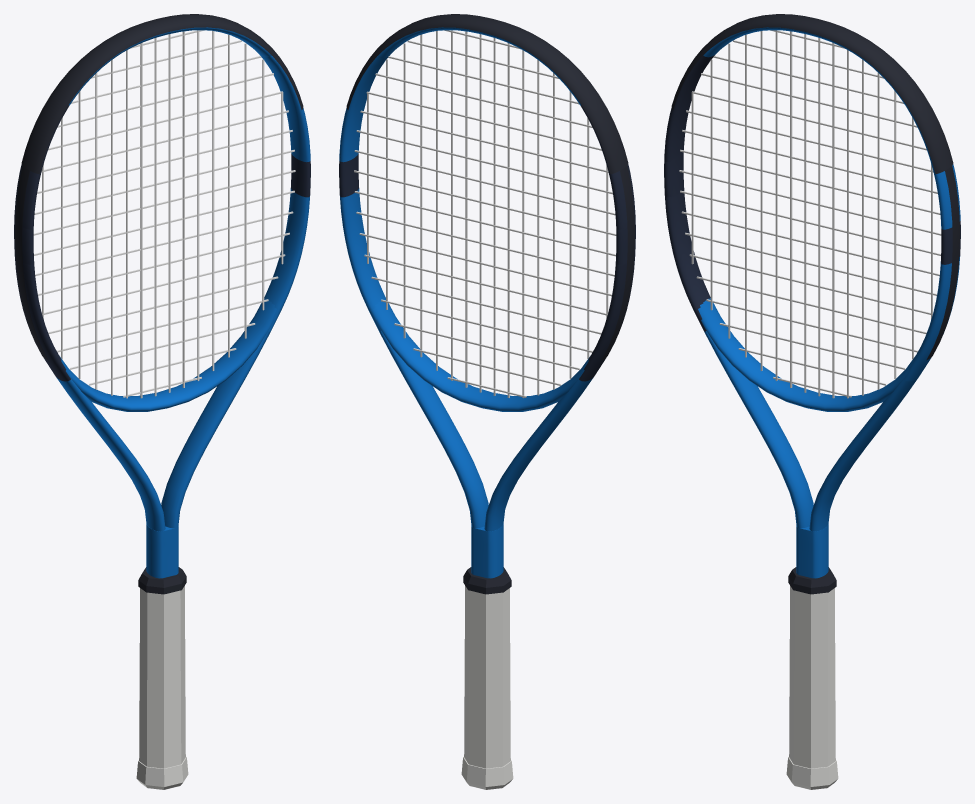
The model's file is dunlop-fx-700-2023.glb.
3 renders of one model, left to right at view 1: azimuth 30°, elevation 25°; view 2: azimuth 150°, elevation 25°; view 3: azimuth 330°, elevation 25°, orthographic.
Parts seen in each view (by area): view 1: frame, strings_mains, strings_crosses, grip, bumper, grommets, butt_cap, collar; view 2: frame, strings_mains, strings_crosses, grip, bumper, grommets, butt_cap, collar; view 3: frame, strings_mains, strings_crosses, grip, bumper, grommets, butt_cap, collar.
Part boxes in pixels (bbox=[...]): frame: bbox=[14, 27, 310, 578]; strings_mains: bbox=[42, 30, 283, 398]; strings_crosses: bbox=[33, 30, 295, 397]; grip: bbox=[139, 586, 185, 768]; bumper: bbox=[21, 14, 303, 174]; grommets: bbox=[15, 166, 48, 360]; butt_cap: bbox=[136, 757, 188, 789]; collar: bbox=[138, 567, 186, 594]; frame: bbox=[339, 27, 635, 578]; strings_mains: bbox=[367, 30, 608, 398]; strings_crosses: bbox=[354, 30, 616, 397]; grip: bbox=[464, 586, 510, 768]; bumper: bbox=[346, 14, 628, 174]; grommets: bbox=[601, 166, 634, 360]; butt_cap: bbox=[461, 757, 513, 789]; collar: bbox=[463, 567, 511, 594]; frame: bbox=[664, 27, 960, 578]; strings_mains: bbox=[691, 30, 932, 398]; strings_crosses: bbox=[679, 30, 941, 397]; grip: bbox=[789, 586, 835, 768]; bumper: bbox=[671, 14, 953, 174]; grommets: bbox=[926, 166, 959, 360]; butt_cap: bbox=[786, 757, 838, 789]; collar: bbox=[788, 567, 836, 594].
Bounding box in the file's own units: 0.2781 × 0.6988 × 0.0377.
